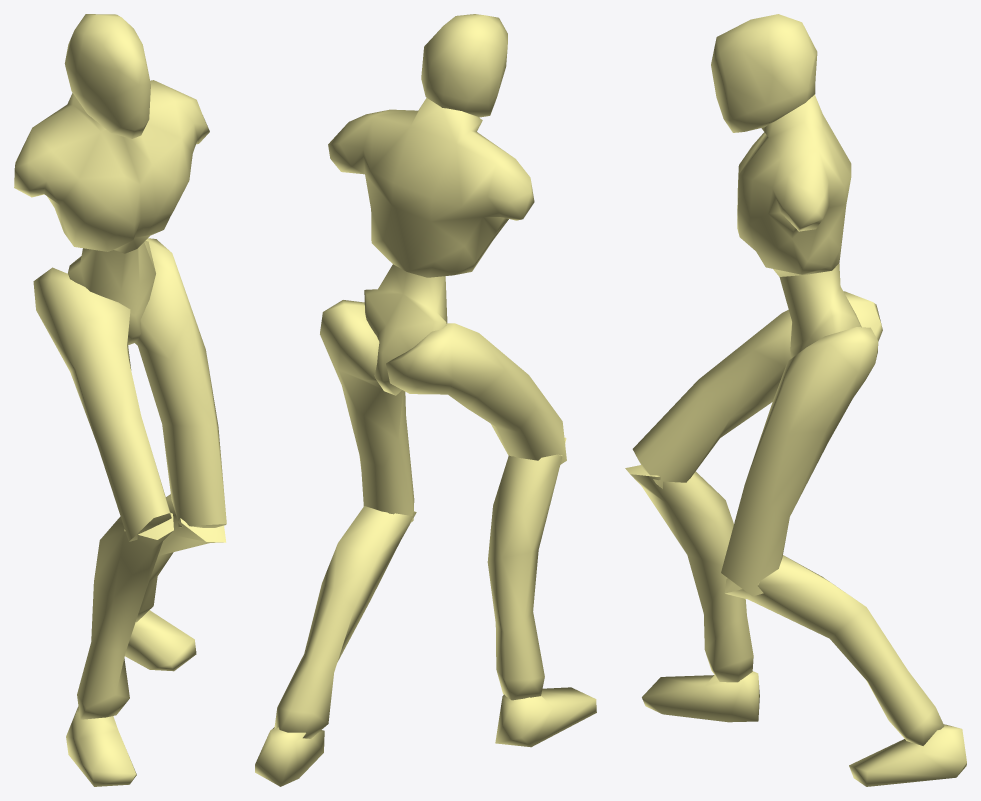
File: filth0.obj
3 renders of one model, left to right at view 1: azimuth 30°, elevation 25°; view 2: azimuth 150°, elevation 25°; view 3: azimuth 270°, elevation 25°, orthographic.
Parts seen in each view (by area): view 1: Melee_Husk; view 2: Melee_Husk; view 3: Melee_Husk.
Boxes of the visible parts, left/top/right/bottom form: Melee_Husk: left=14, top=14, right=226, bottom=786; Melee_Husk: left=255, top=14, right=596, bottom=786; Melee_Husk: left=625, top=14, right=966, bottom=786.
Bounding box in the file's own units: 22.89 × 73.21 × 31.78.
